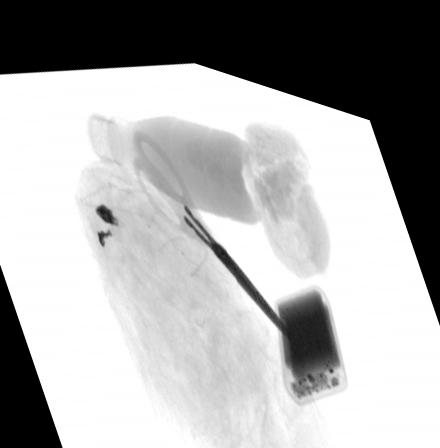Powerbank: (271, 262, 350, 389)
Scissors: (128, 117, 296, 325)
